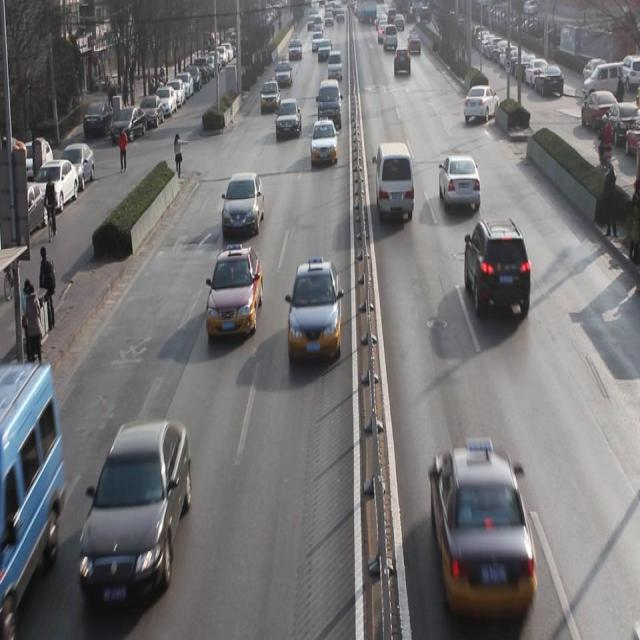car: (426, 435, 538, 622), (83, 428, 190, 606), (463, 216, 532, 321), (288, 260, 344, 368), (207, 246, 263, 343), (222, 173, 266, 239), (438, 151, 481, 213), (310, 120, 339, 169), (276, 99, 303, 142), (463, 90, 496, 125), (274, 57, 294, 92), (260, 80, 281, 112)
truck: (1, 365, 64, 640), (373, 142, 415, 225), (316, 80, 342, 130), (326, 49, 344, 84)
